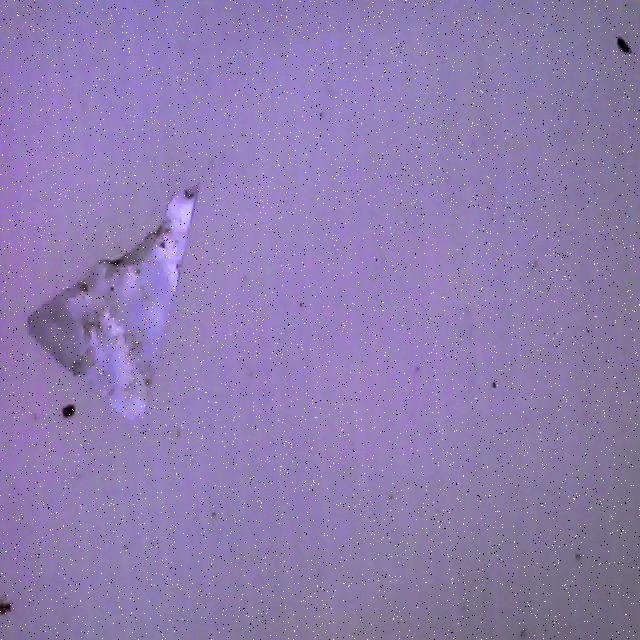fragments: (21, 180, 287, 437)
